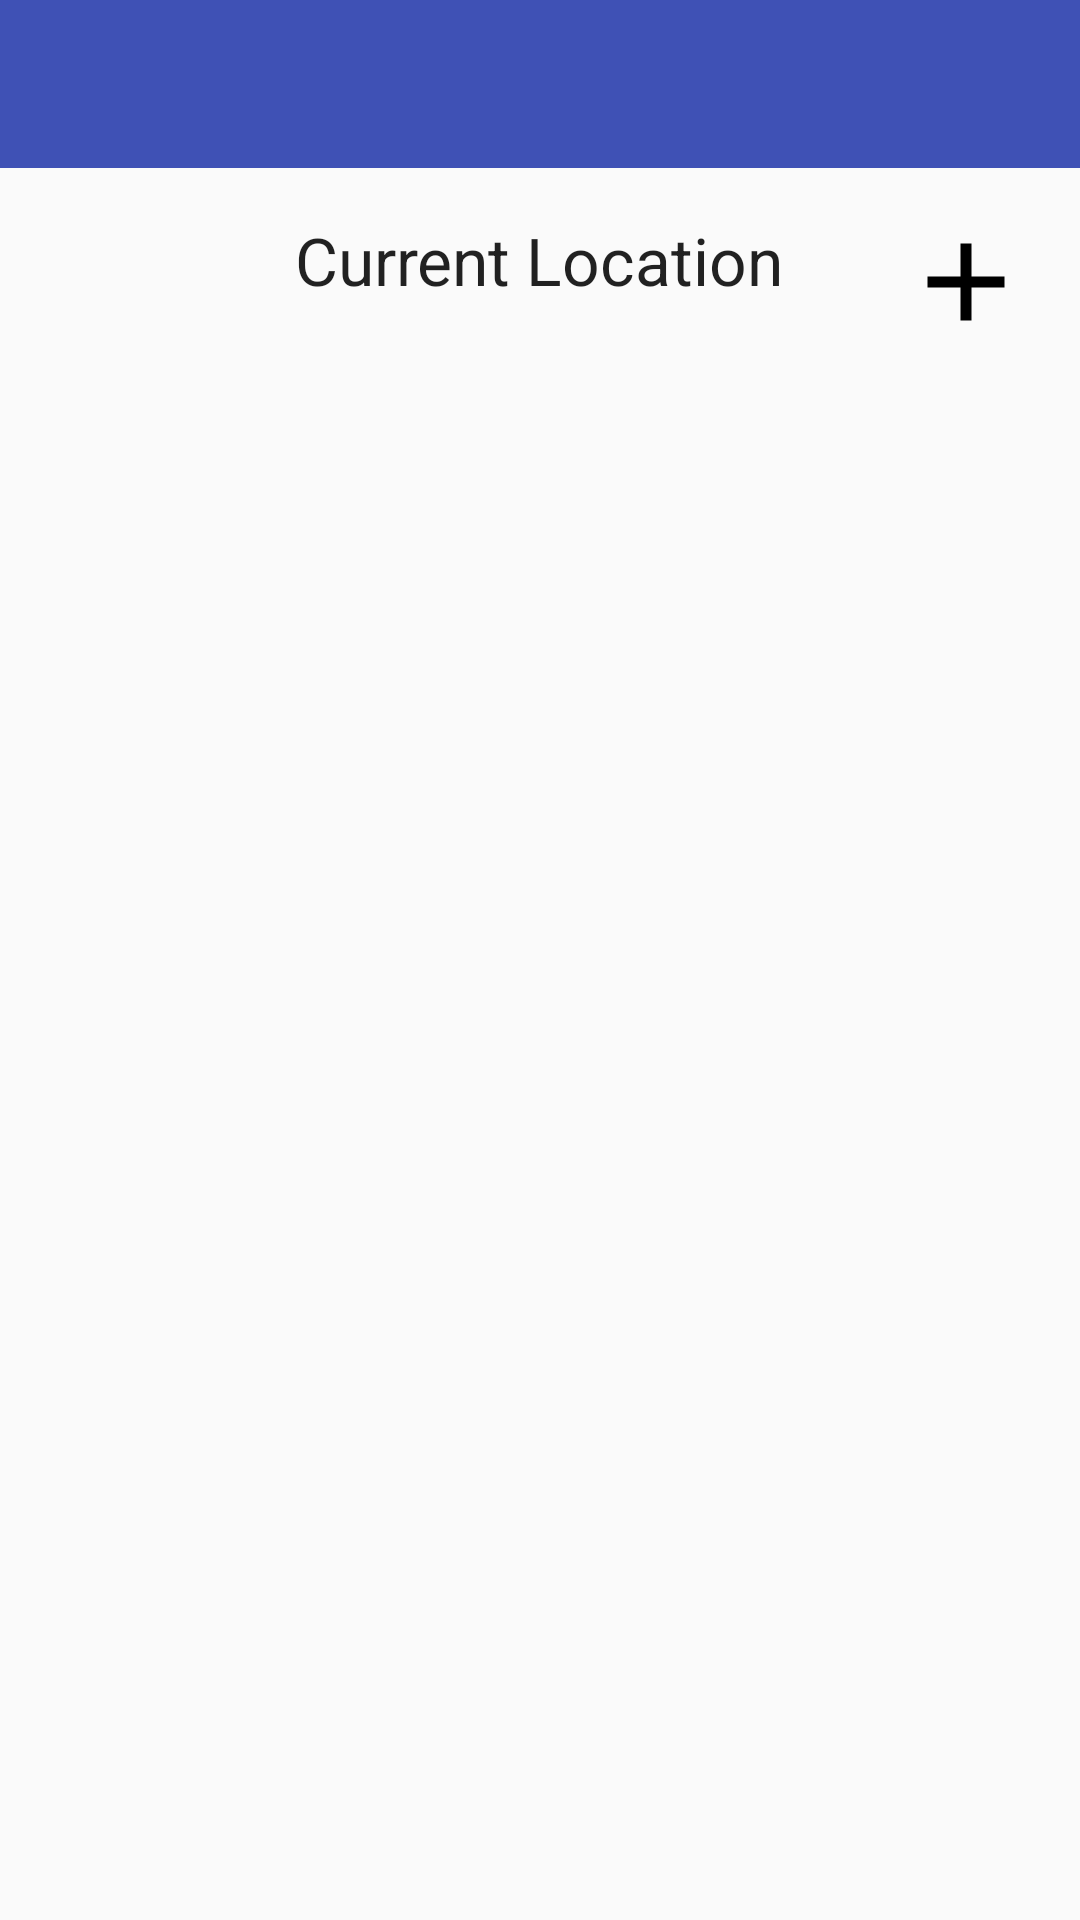

Where icons sit on this 1080 × 1920 app screen, as (x1, y1, x2, y2):
add: (927, 243, 1005, 321)
